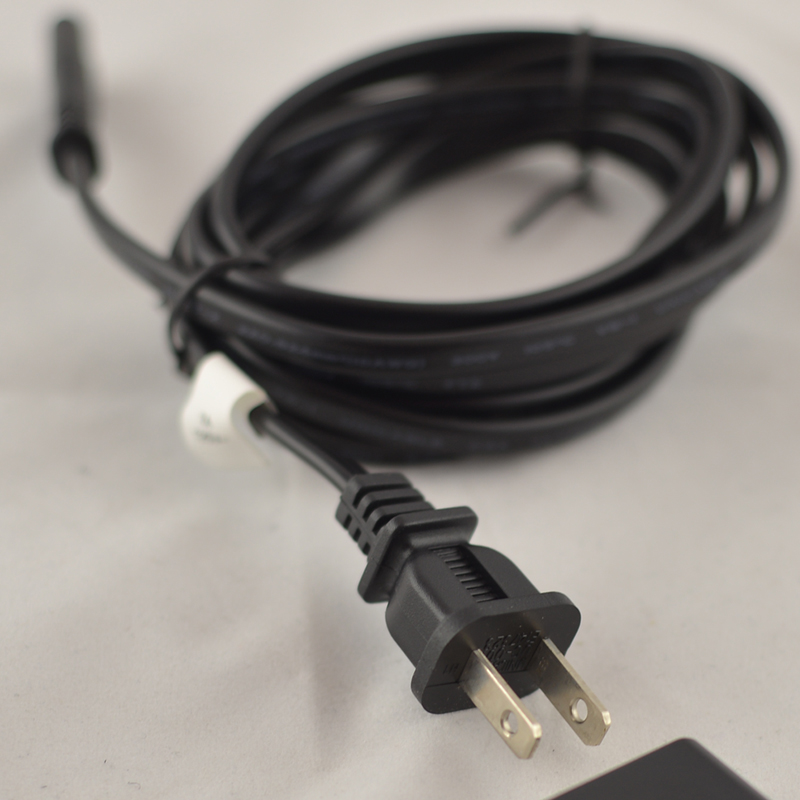Nonrec_Tangler: (44, 16, 753, 734)
